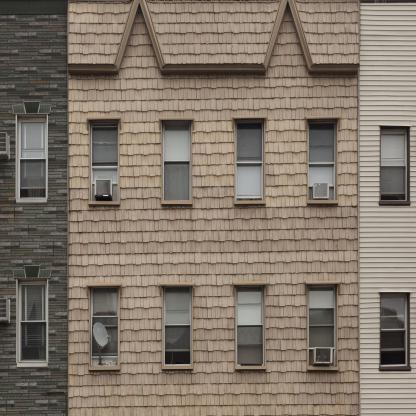Building Outline: (0, 0, 416, 416)
Cornice: (305, 115, 341, 131), (86, 282, 122, 297), (159, 282, 195, 297), (86, 116, 121, 131), (159, 117, 194, 132), (232, 115, 267, 130), (233, 281, 268, 296), (12, 101, 52, 114), (12, 265, 52, 278), (305, 281, 341, 294)
Facade: (0, 0, 416, 415)
Floor: (1, 73, 416, 249), (1, 256, 416, 409)
Floor Slab: (1, 249, 416, 256), (1, 409, 416, 416)
Roof: (146, 0, 280, 64), (68, 0, 133, 64), (295, 0, 360, 64)
Sill: (88, 366, 120, 371), (380, 366, 412, 370), (379, 201, 411, 205), (16, 199, 47, 203), (17, 363, 48, 367), (89, 201, 120, 205), (162, 367, 194, 370), (236, 367, 267, 370), (308, 367, 339, 370), (307, 200, 338, 203), (235, 201, 266, 204), (162, 201, 193, 204)
Window: (235, 286, 264, 366), (162, 286, 191, 366), (162, 121, 191, 201), (235, 121, 264, 201), (308, 287, 337, 366), (308, 121, 337, 200), (19, 281, 47, 362), (19, 118, 47, 199), (91, 286, 119, 366), (91, 121, 119, 201), (380, 126, 409, 201), (380, 292, 409, 366)
